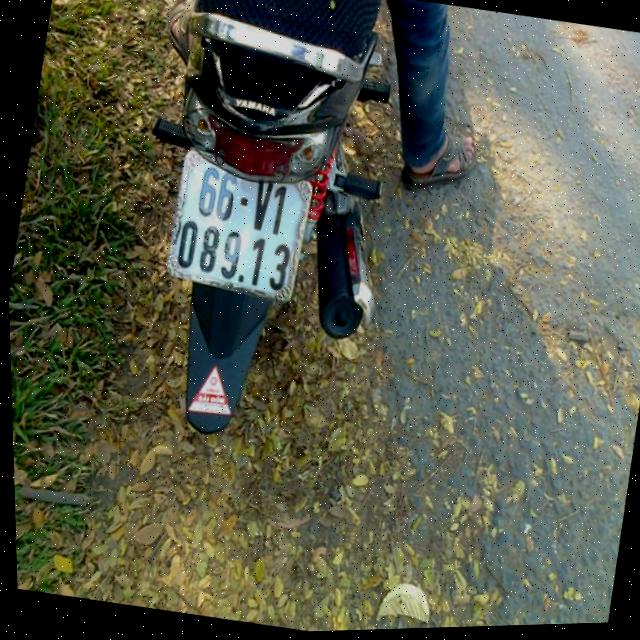motorcycle: (103, 0, 444, 461)
plate: (158, 144, 319, 313)
